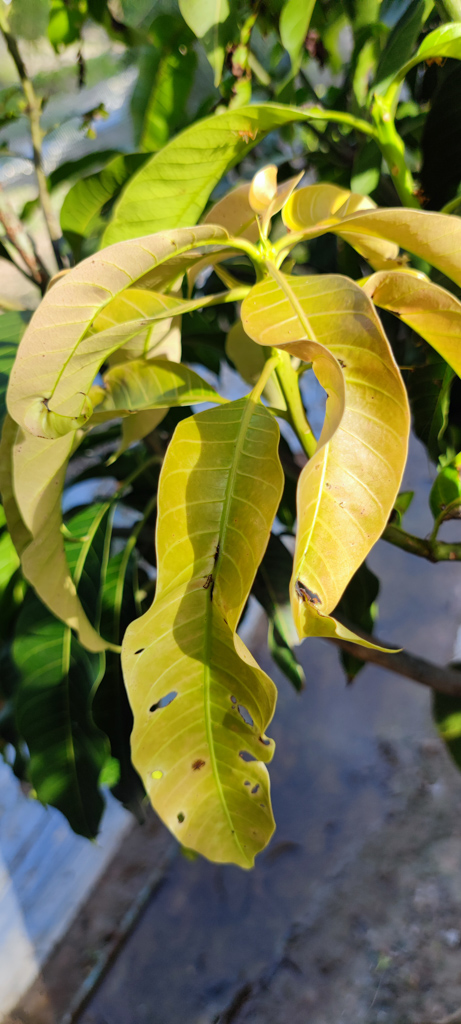Pepper yellow leaf: (232, 266, 428, 664), (157, 398, 284, 875), (9, 226, 210, 442), (4, 413, 120, 679), (360, 266, 456, 380), (319, 201, 456, 280)
